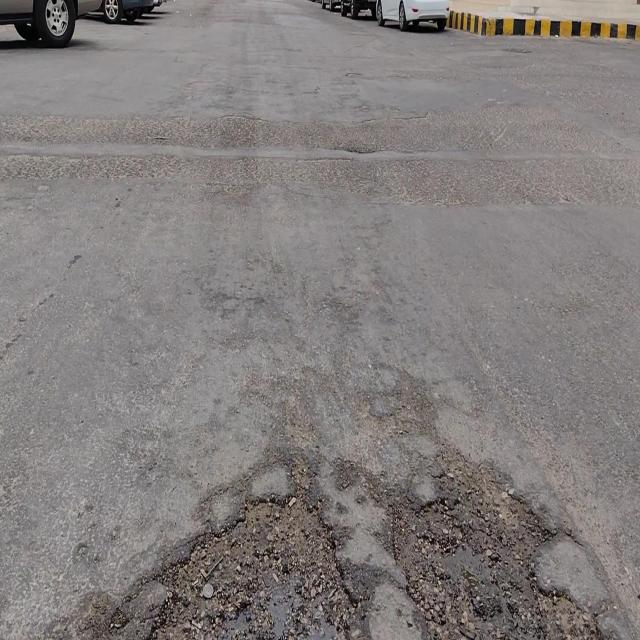Pothole: (391, 444, 602, 640), (111, 484, 359, 640)
